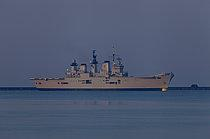MIL_Ship: (29, 48, 174, 90)
